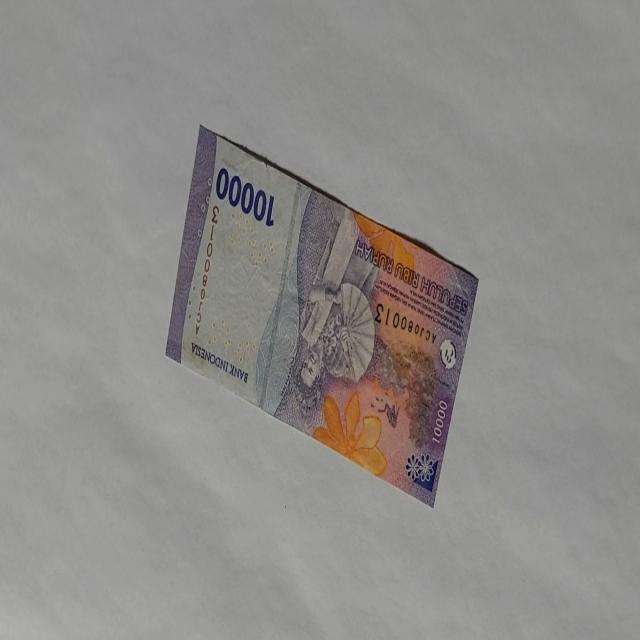sepuluh ribu rupiah: (165, 122, 480, 510), (190, 339, 250, 385)
